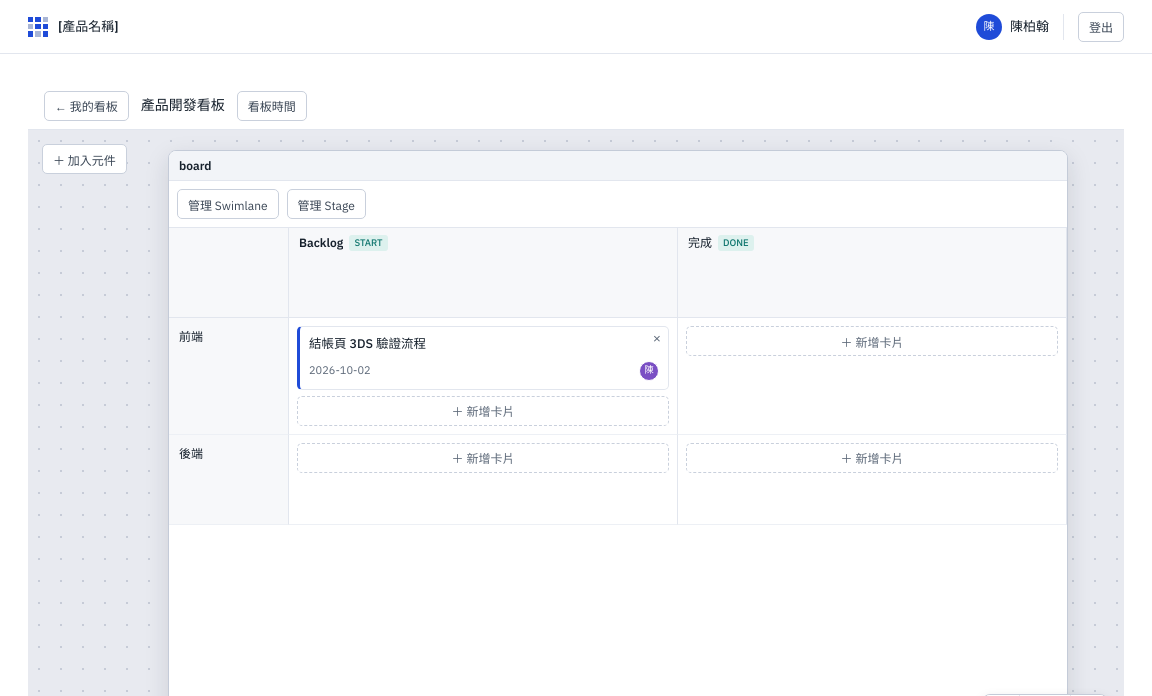
Test case: s-board › 點擊刪除卡片開啟 s-card-delete-dialog，確認刪除後觸發 uc-delete-card 並自看板移除
The width and height of the screenshot is (1152, 696).
Expected: the text "結帳頁 3DS 驗證流程" is shown, [309,335,426,351]
Step 1. Click the button named "刪除卡片「結帳頁 3DS 驗證流程」" → (656, 339), box [647,330,665,348]
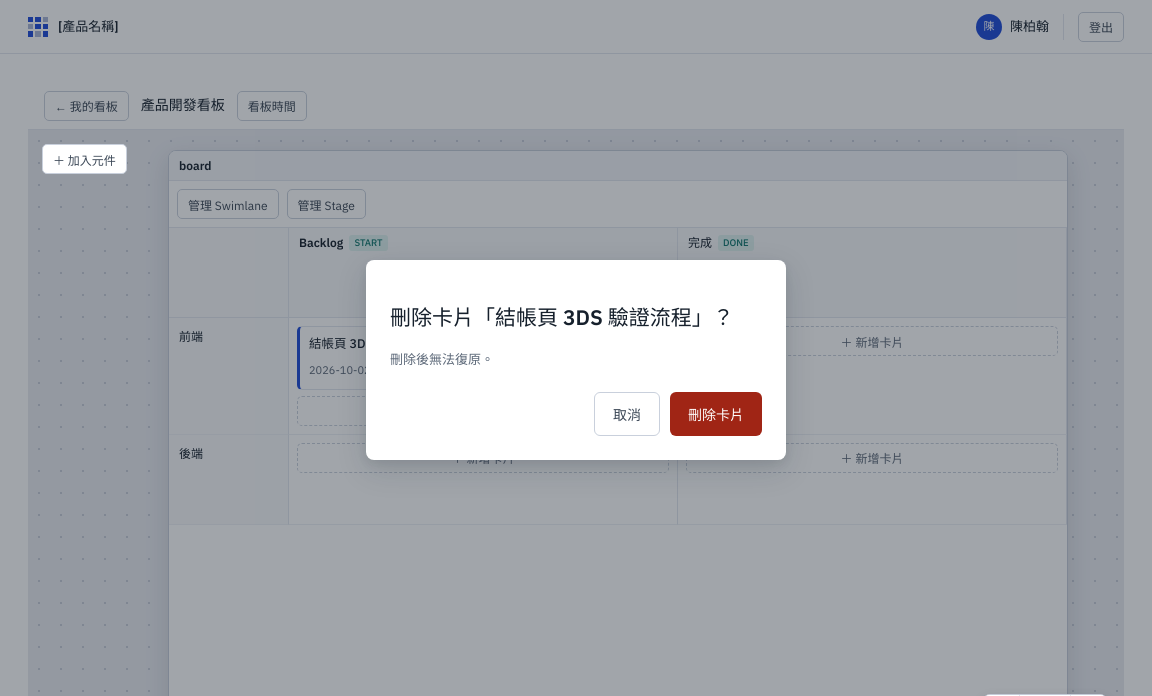
Step 2. Click the button "刪除卡片" → (716, 414), box [670,392,762,436]
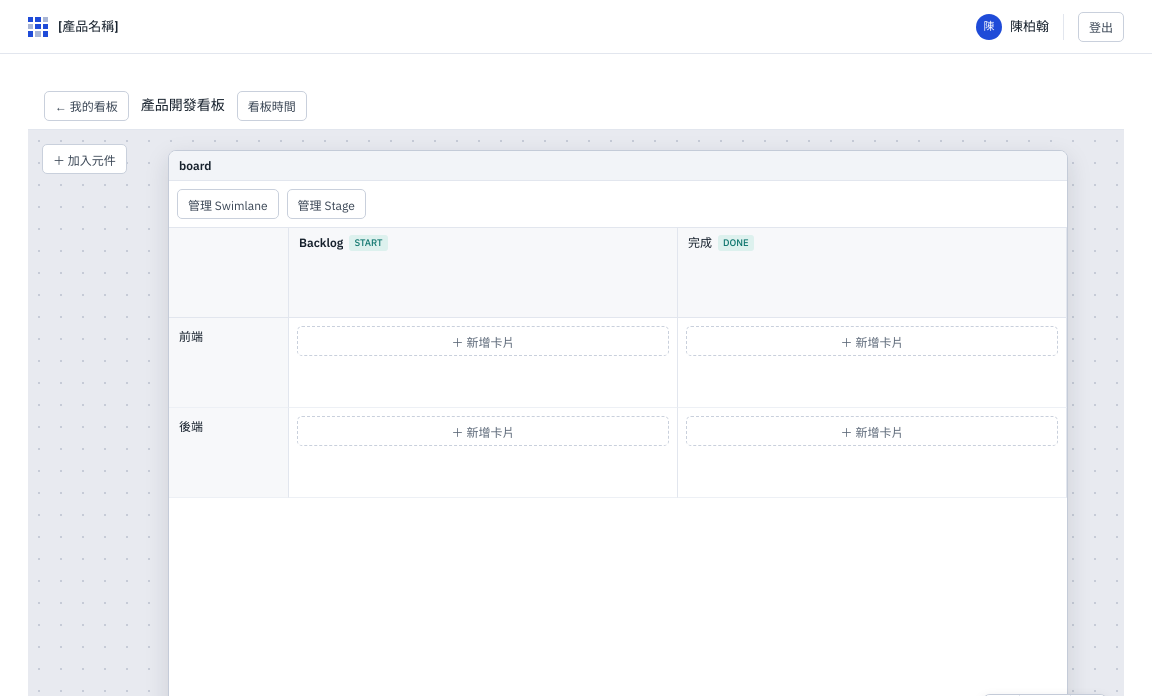
Expected: the text "結帳頁 3DS 驗證流程" is gone
